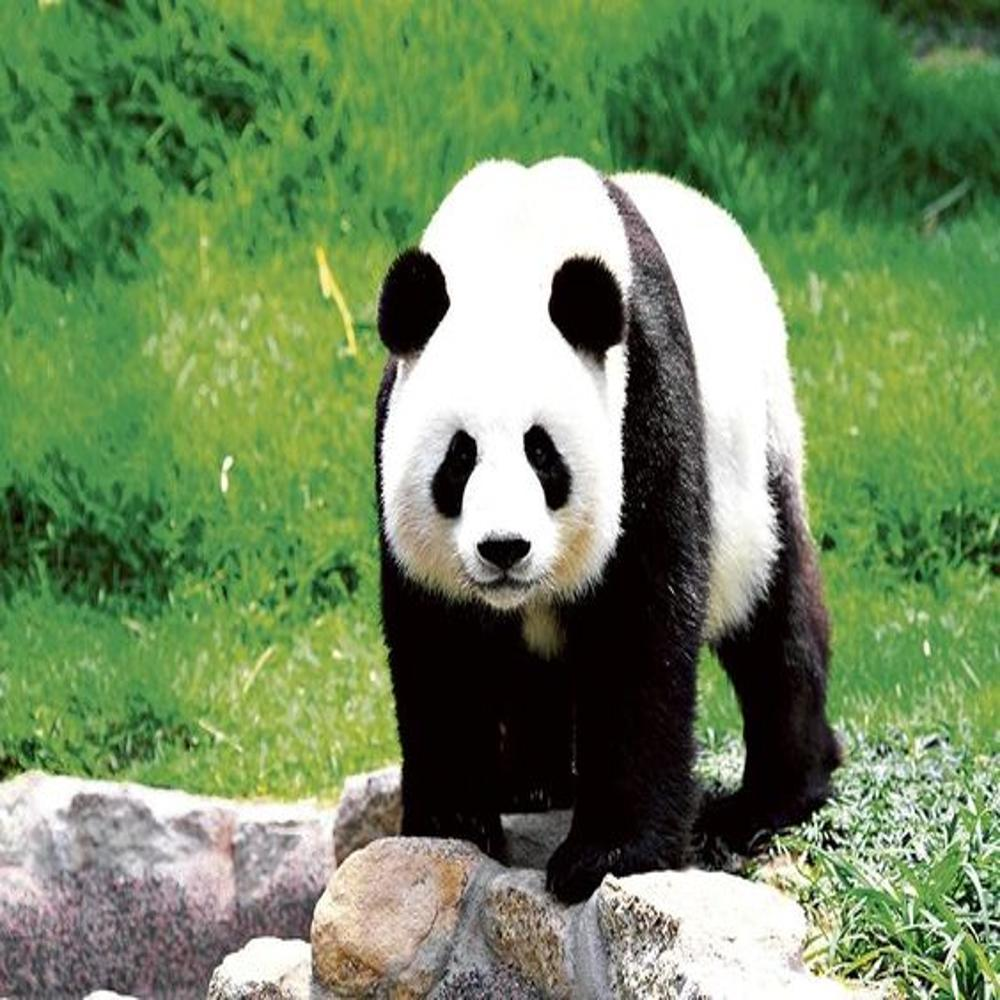panda: (369, 152, 845, 918)
